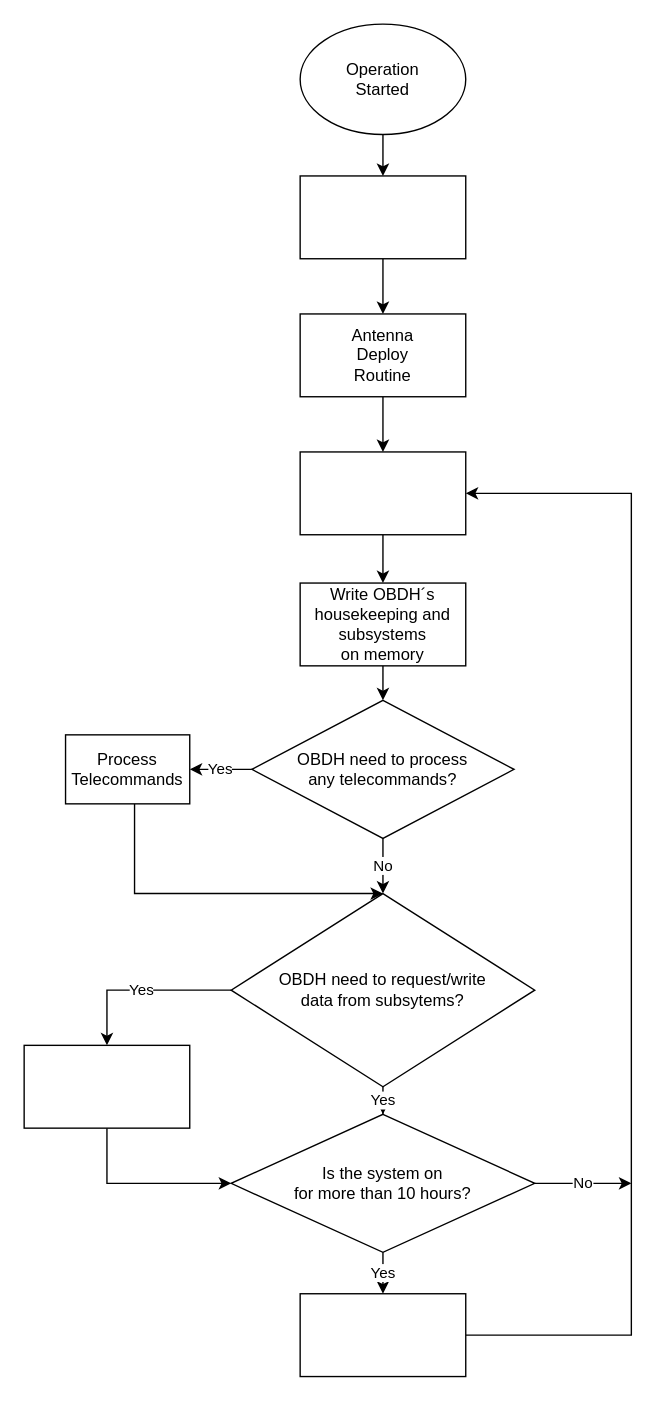
This 667x1401 diagram has some shape labels left out. The shapes that lost their labels are listed below. From the top down, each one's centre as x and y in pixels, then its label:
At pixel 382 217: "Boot Sequence".
At pixel 382 493: "Read Sensors".
At pixel 106 1086: "Transmit/Receive Data".
At pixel 382 1334: "System Reset".
